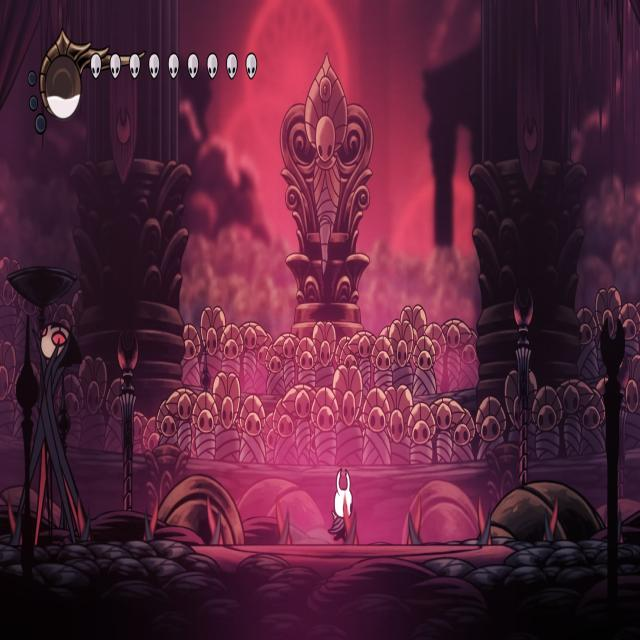Grimm: (20, 317, 94, 540)
Player: (328, 463, 356, 547)
Spikes: (542, 489, 566, 540), (6, 484, 23, 548), (475, 493, 495, 547), (143, 490, 163, 543), (206, 492, 225, 546), (408, 491, 425, 546), (276, 491, 292, 547), (76, 490, 92, 542)
